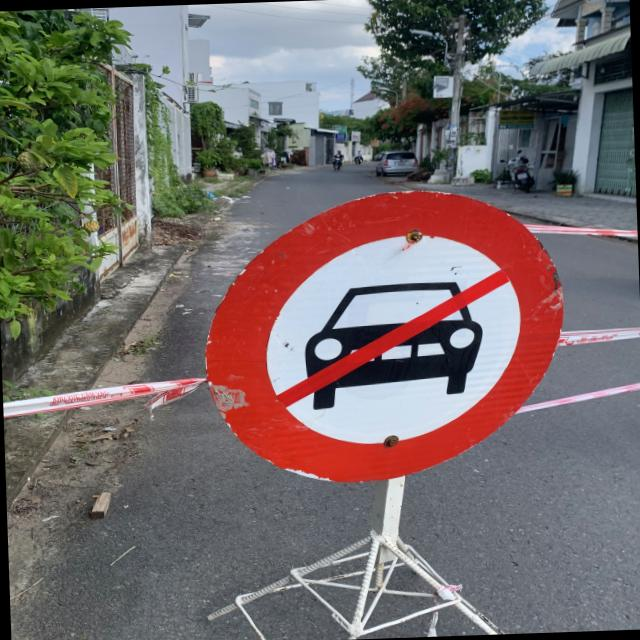Cam_O_To: (198, 184, 570, 488)
